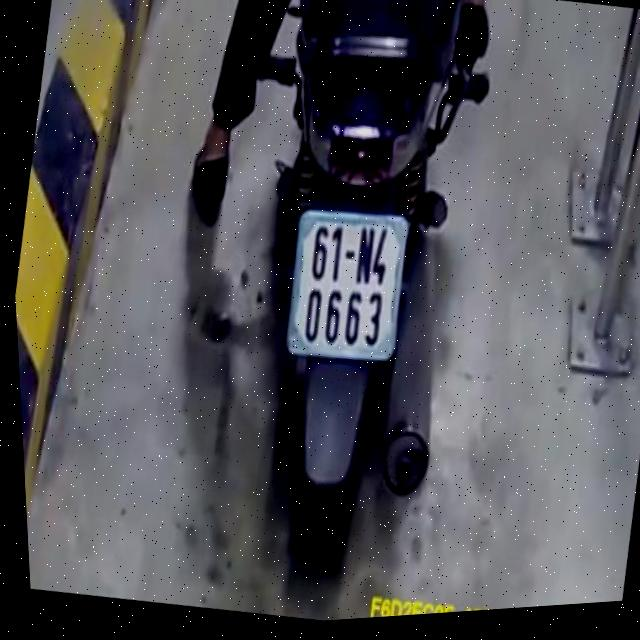motorcycle: (167, 0, 532, 595)
plate: (271, 197, 419, 374)
